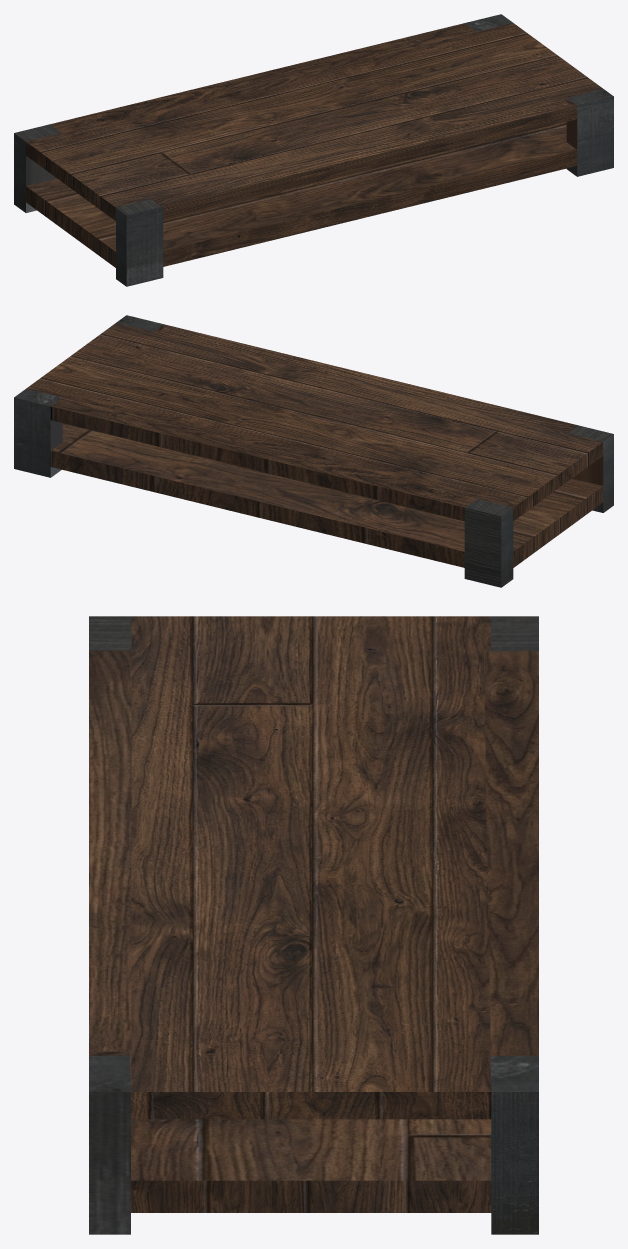
Rendered from TableWorkshop.fbx.
3 views of the same model, one above another, from view 1: azimuth 30°, elevation 25°; view 2: azimuth 150°, elevation 25°; view 3: azimuth 270°, elevation 25° (orthographic). The views are drawn at different scales.
Parts seen in each view (by area): view 1: Cube; view 2: Cube; view 3: Cube.
Part boxes in pixels (x1,y1,x2,y2): Cube: (14, 14, 613, 286); Cube: (14, 315, 613, 587); Cube: (89, 616, 538, 1234).
Size of the model in its own units: 500 by 70 by 200.
